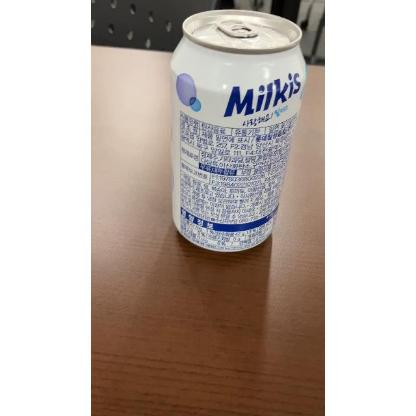Can: (169, 7, 307, 250)
